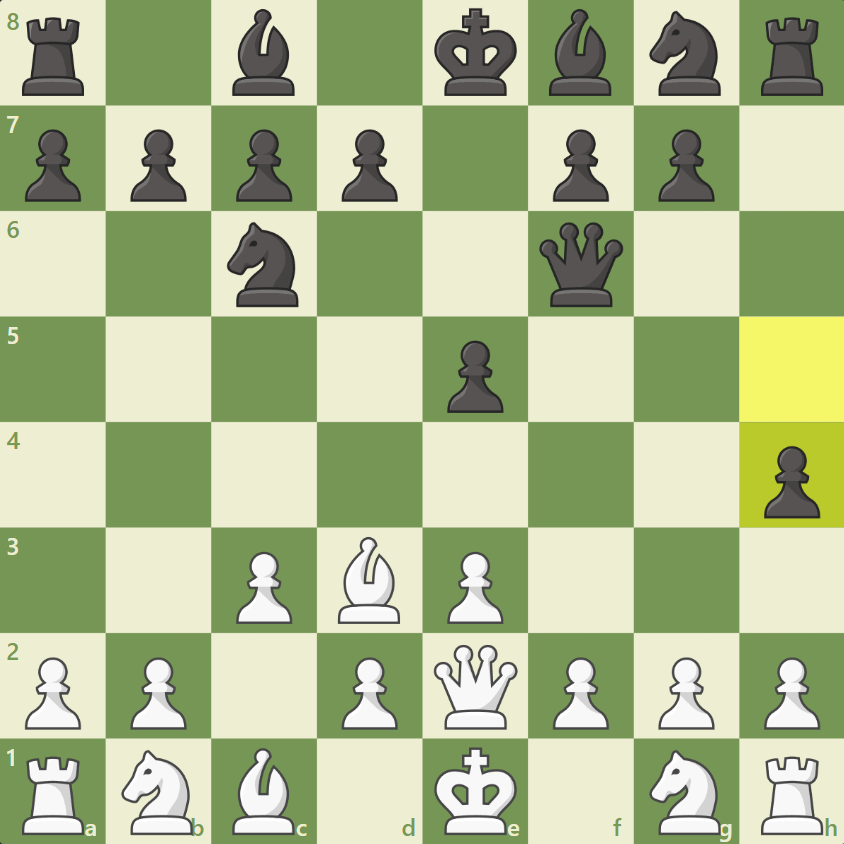B: (229, 745, 298, 838), (337, 535, 403, 628)
K: (429, 744, 519, 838)
N: (118, 747, 198, 839), (648, 747, 725, 840)
P: (550, 654, 612, 733), (762, 654, 823, 733), (128, 654, 189, 733), (22, 654, 83, 733), (233, 549, 294, 628), (656, 655, 717, 733), (339, 656, 400, 733), (446, 550, 505, 627)
Q: (430, 641, 519, 733)
R: (19, 753, 88, 838), (758, 754, 825, 838)
b: (229, 6, 299, 98), (546, 6, 614, 100)
k: (430, 5, 521, 100)
n: (224, 220, 307, 311), (647, 7, 725, 100)
p: (547, 127, 612, 206), (443, 339, 506, 417), (232, 127, 295, 205), (656, 127, 718, 206), (339, 126, 401, 205), (129, 127, 190, 207), (762, 443, 822, 522), (22, 126, 82, 205)
q: (536, 219, 625, 310)
r: (12, 15, 88, 99), (757, 15, 826, 100)
